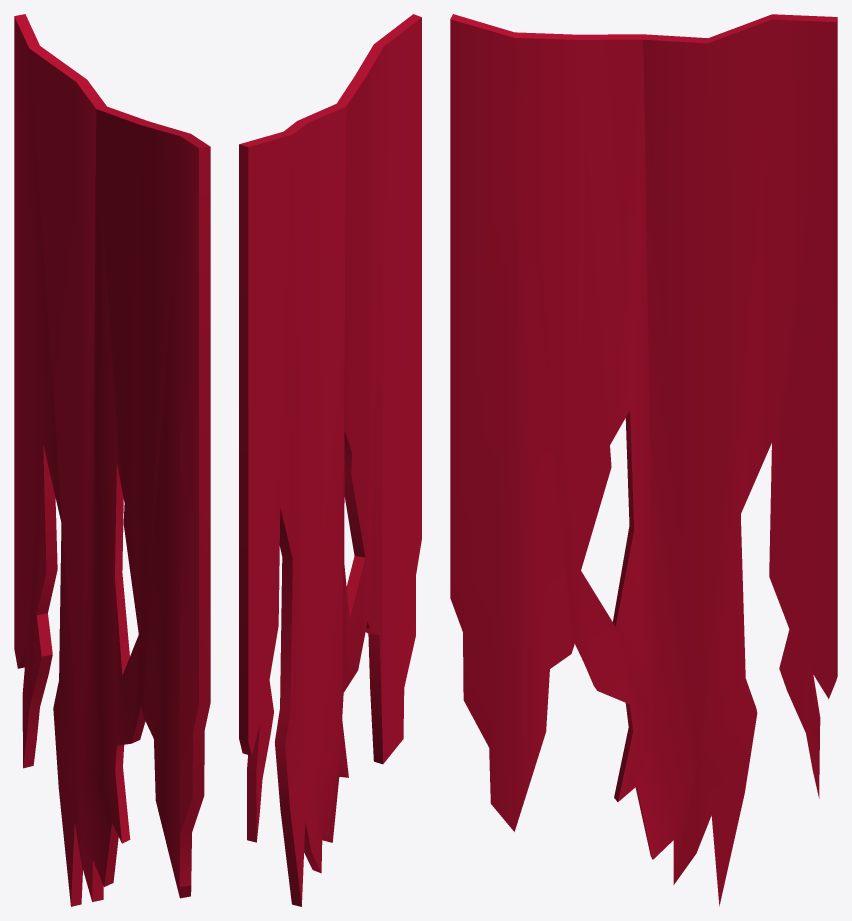
Rendered from Banner_2.fbx.
3 views of the same model, side by side, from view 1: azimuth 30°, elevation 25°; view 2: azimuth 150°, elevation 25°; view 3: azimuth 270°, elevation 25° (orthographic). The views are drawn at different scales.
Parts seen in each view (by area): view 1: Banner2; view 2: Banner2; view 3: Banner2.
Part boxes in pixels (<box>): Banner2: <box>14,14,210,906</box>; Banner2: <box>239,14,421,906</box>; Banner2: <box>450,14,837,906</box>.
Bounding box in the file's own units: 8.62 × 185 × 73.11.
